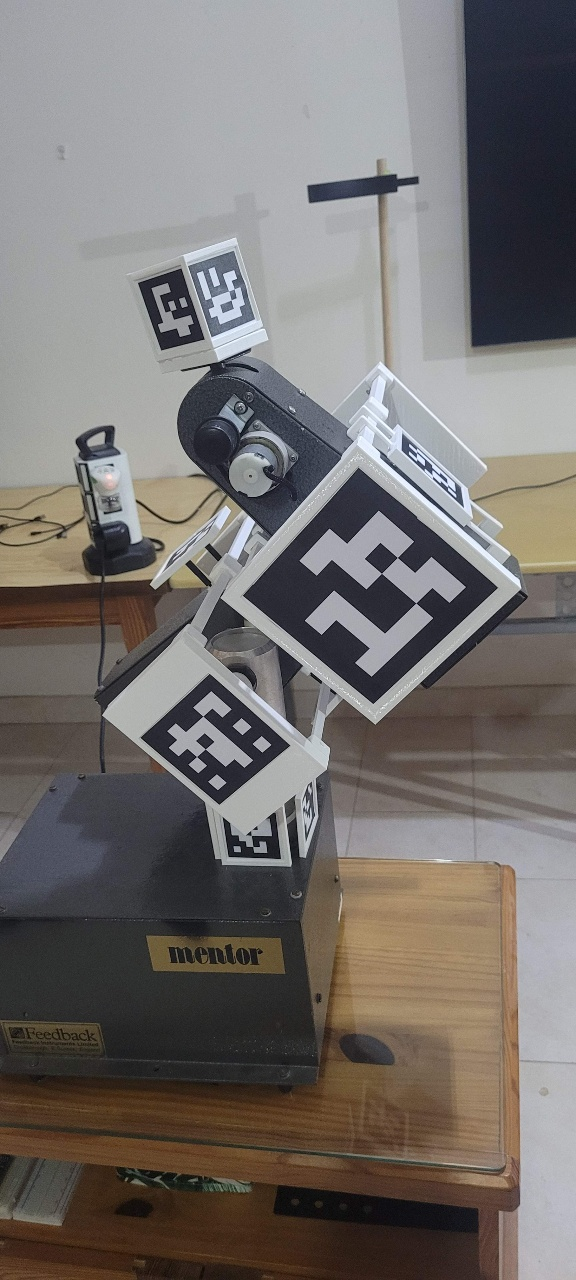Robot: (95, 235, 528, 866)
